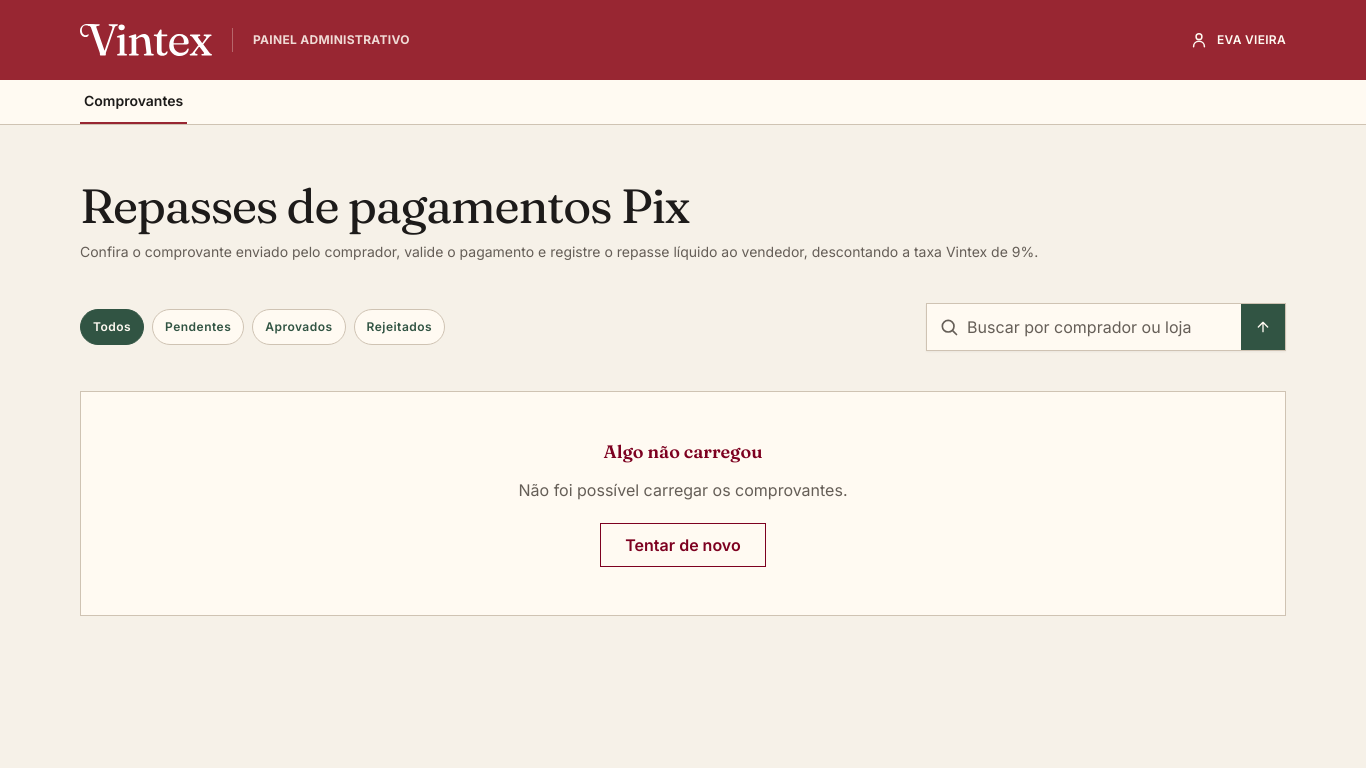
Test: <ReceiptQueue /> › erro mostra ErrorState e "Tentar de novo" consulta de novo
Click the button "Tentar de novo": click(683, 545) [600,523,766,567]
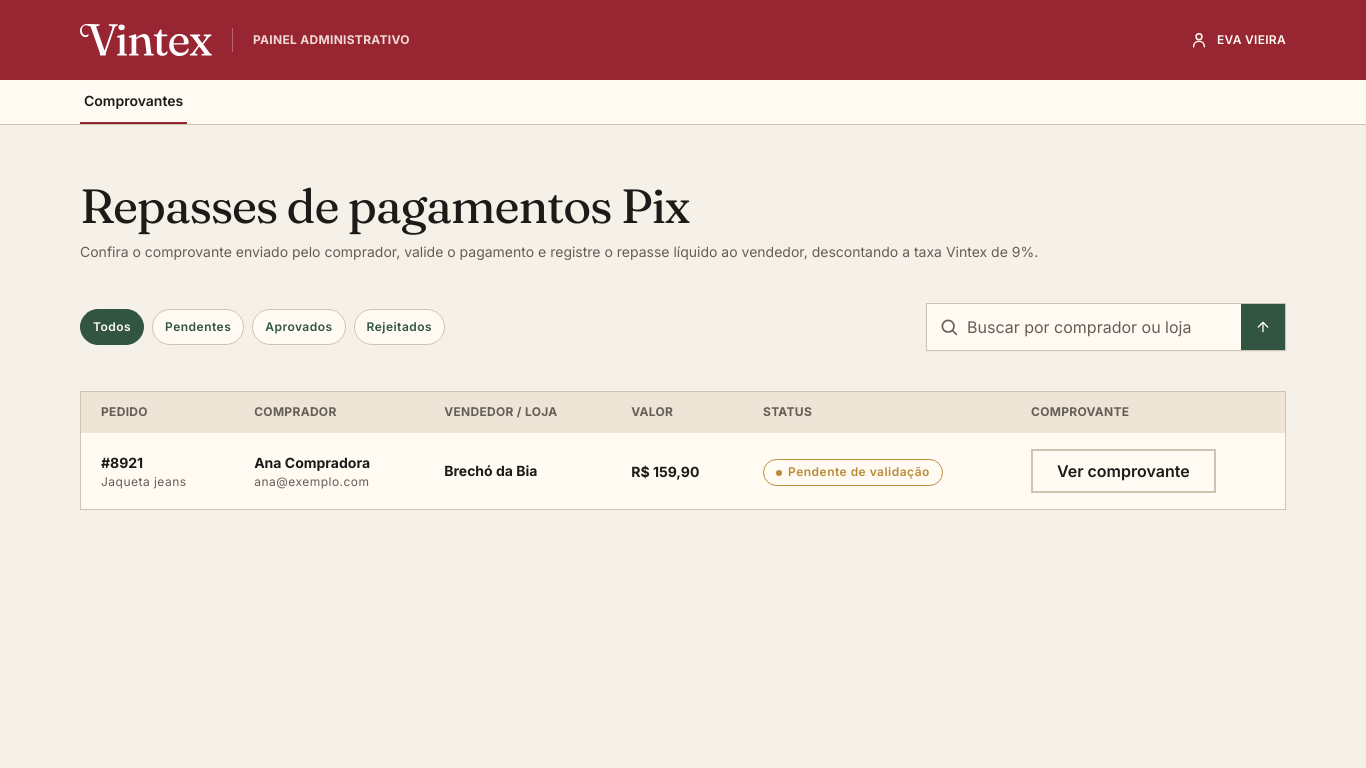
expect the text "#8921" is shown: met, box [101,454,143,471]
